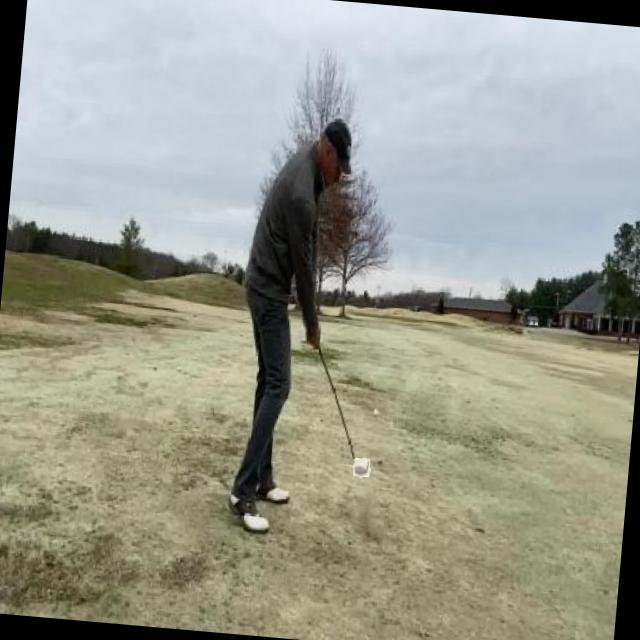club head: (352, 457, 370, 477)
